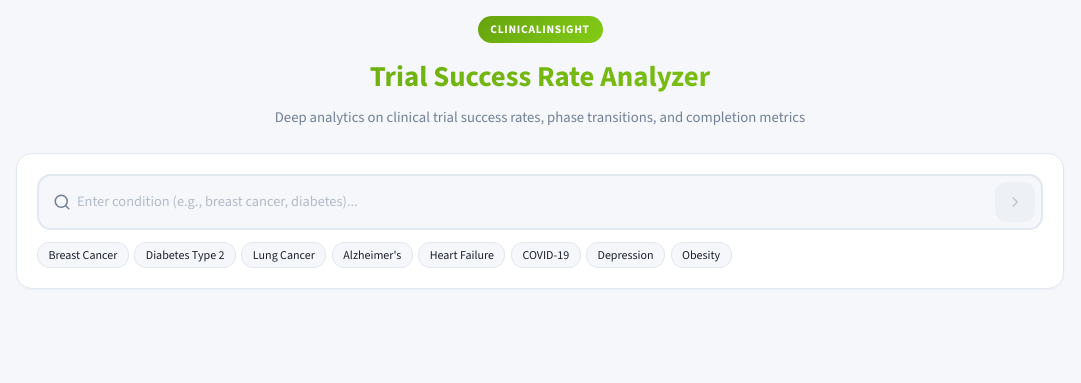
Test: ClinicalInsightPage › sets query when clicking a condition
The width and height of the screenshot is (1081, 383).
Click the button "Obesity" at x=701, y=255, box [671, 242, 732, 268]
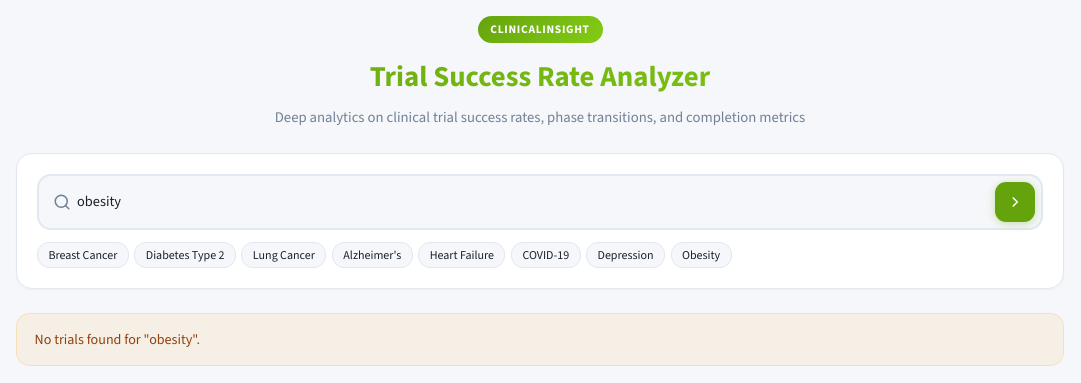
Expected: the field showing "obesity" is shown, [77, 187, 995, 217]
